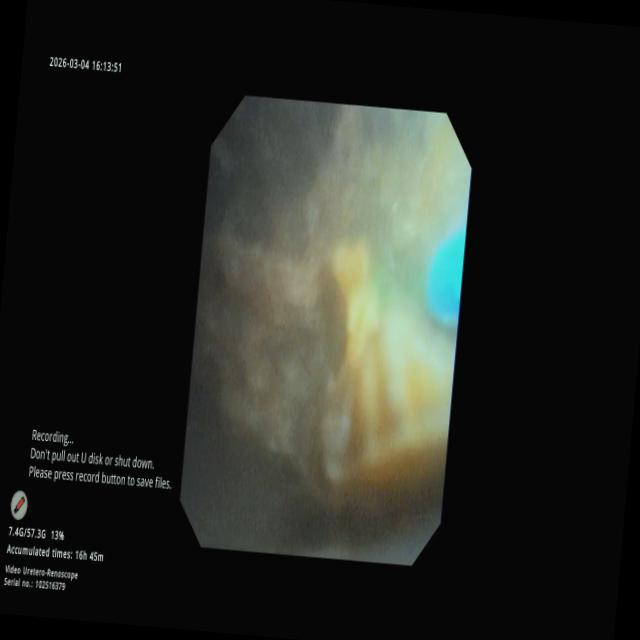laser_dot: (371, 265, 395, 301)
stone-new: (192, 96, 470, 511)
